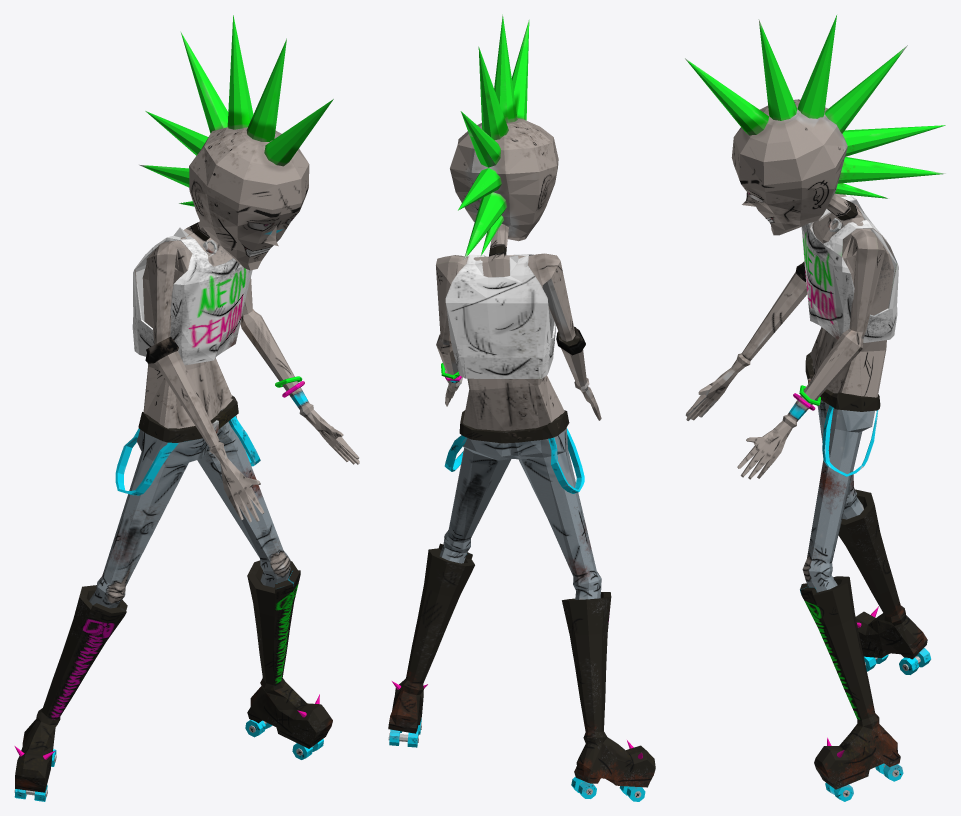
File: punkAnimation_000140.obj
3 renders of one model, left to right at view 1: azimuth 30°, elevation 25°; view 2: azimuth 150°, elevation 25°; view 3: azimuth 270°, elevation 25°, orthographic. The views are drawn at different scales.
Visible parts, largest first — view 1: Cube.004_Cube.003; view 2: Cube.004_Cube.003; view 3: Cube.004_Cube.003.
Boxes of the visible parts, x1,y1,x2,y2 form: Cube.004_Cube.003: (14, 15, 359, 801); Cube.004_Cube.003: (388, 14, 655, 801); Cube.004_Cube.003: (685, 15, 945, 801).
Bounding box in the file's own units: 3.02 × 7.36 × 2.34.
